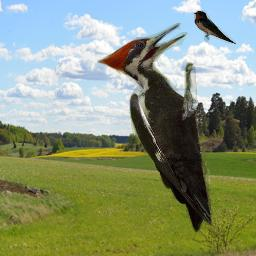Swallow: (193, 10, 236, 44)
Woodpecker: (97, 23, 212, 233)
